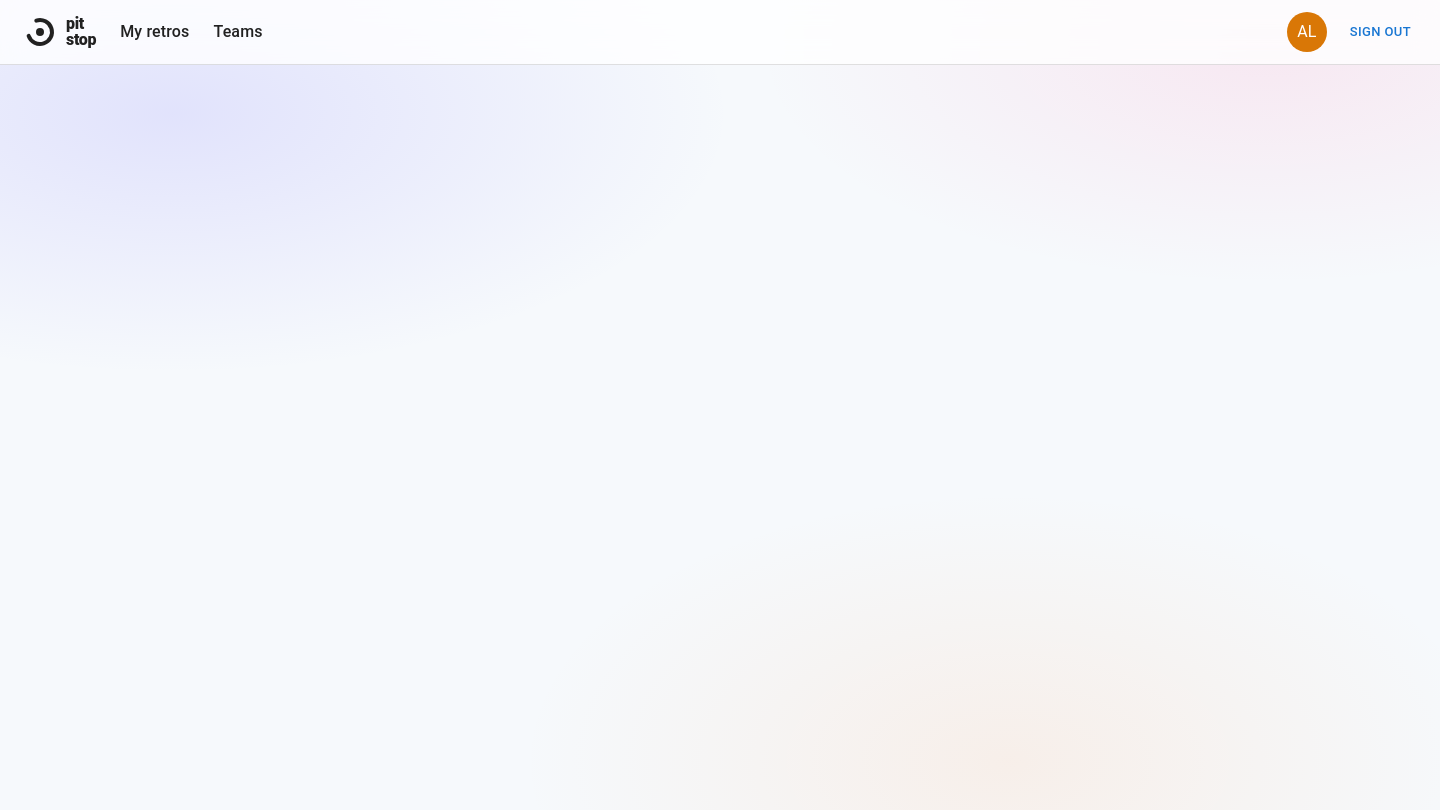
Test: AppLayout › shows the full name in a tooltip on the header avatar
This screenshot has width=1440, height=810.
Hover over the link with aria-label "My profile" at (1307, 32), box [1285,10,1329,54]
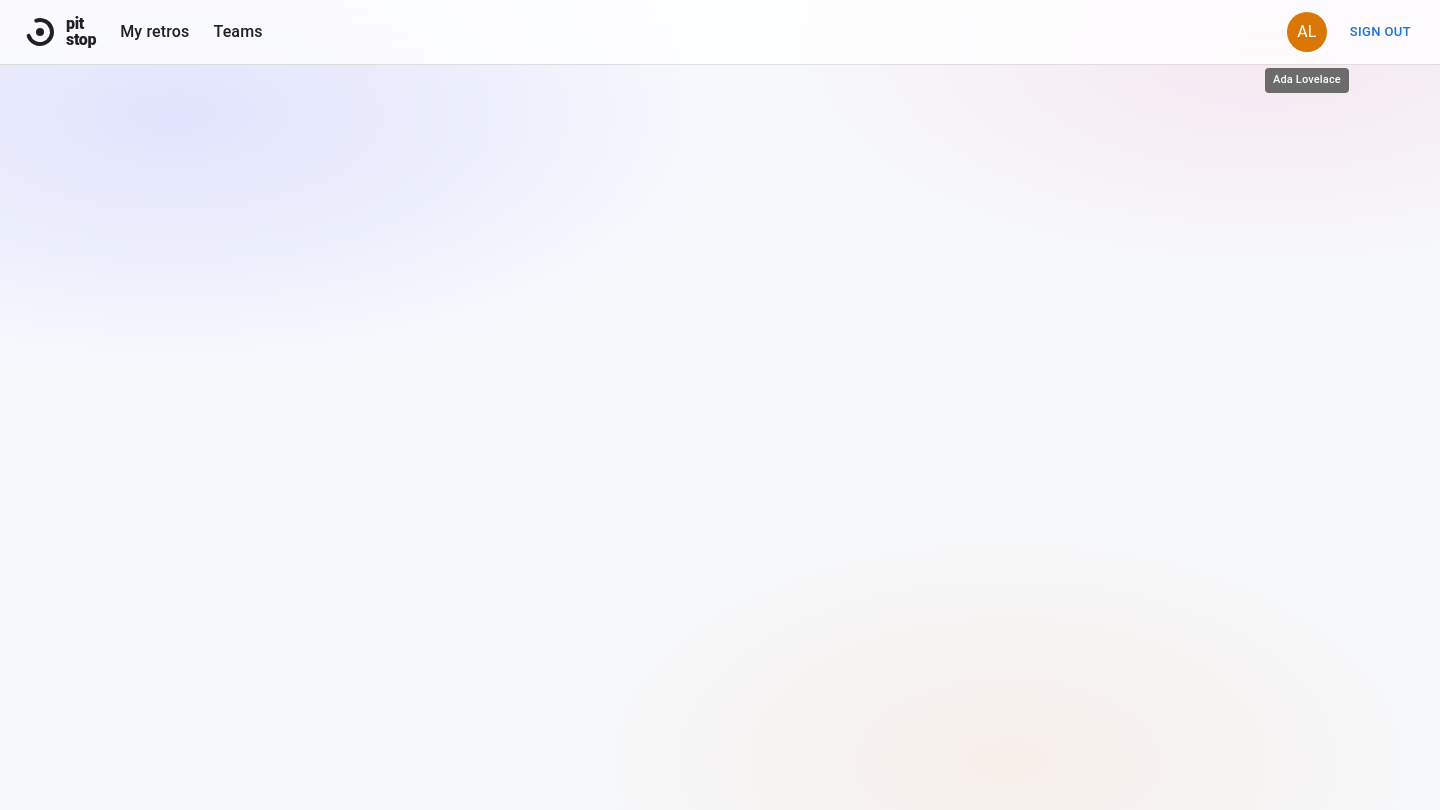
Check: the tooltip reads "Ada Lovelace", box [1273,73,1341,86]
